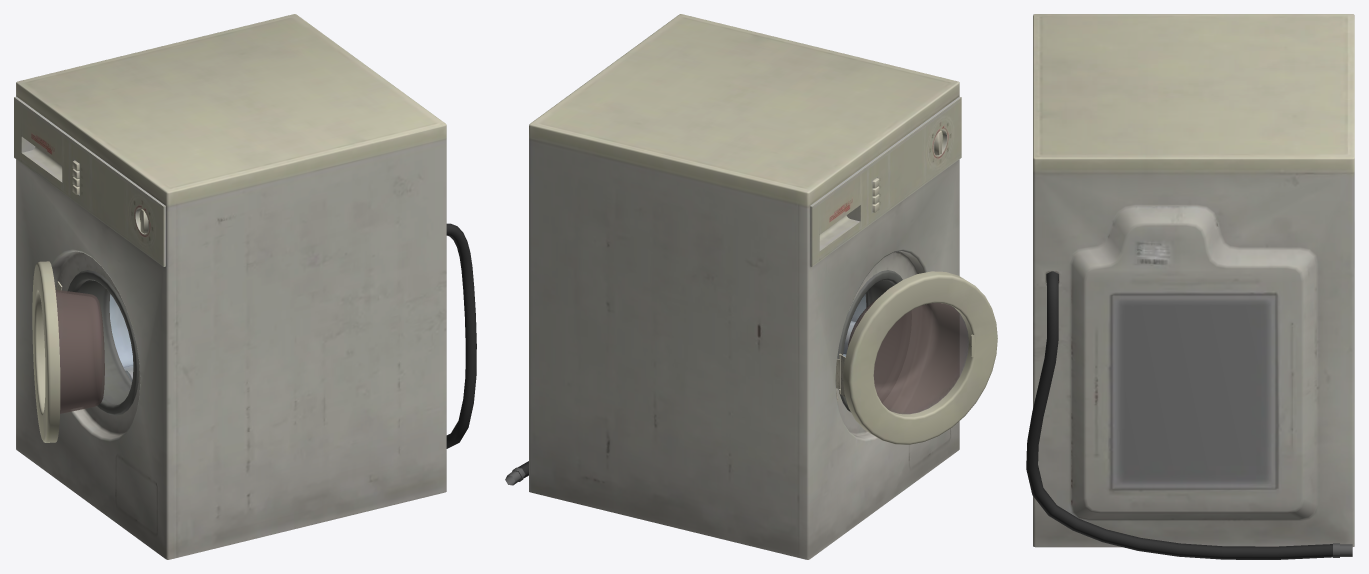
File: WashingMachine.glb
3 views of the same model, side by side, from view 1: azimuth 30°, elevation 25°; view 2: azimuth 150°, elevation 25°; view 3: azimuth 270°, elevation 25° (orthographic). The views are drawn at different scales.
Parts seen in each view (by area): view 1: defaultMaterial; view 2: defaultMaterial; view 3: defaultMaterial.
Boxes of the visible parts, bbox=[...] form: defaultMaterial: bbox=[14, 14, 476, 559]; defaultMaterial: bbox=[505, 14, 997, 559]; defaultMaterial: bbox=[1026, 14, 1354, 559].
Size of the model in its own units: 2 by 1.82 by 1.37.
1 material, 1 textured.
